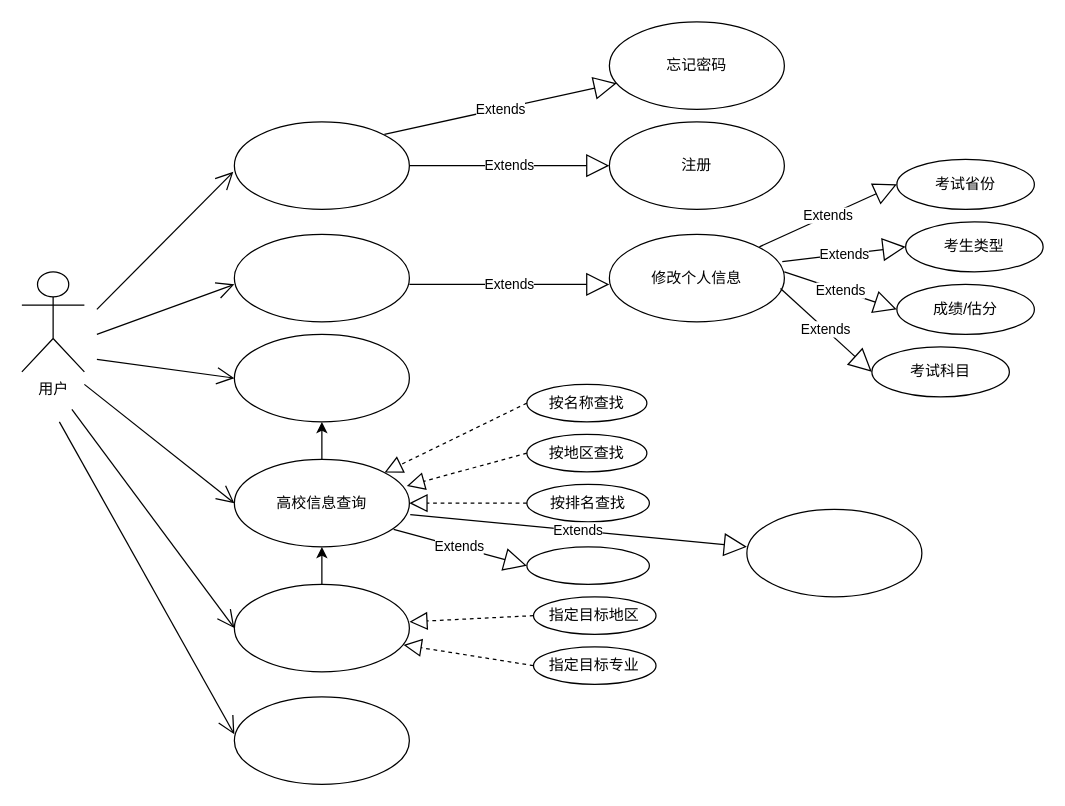
This 1065x806 diagram has some shape labels left out. Here are the shapes that lost their labels. From the top down, the centre of each, then its label:
At (321,165): "登录".
At (321,277): "录入个人信息".
At (321,377): "专业信息查询".
At (587,565): "查看往年信息".
At (834,552): "进入学校官方网站".
At (321,627): "查看院校推荐".
At (321,740): "高校往年分数线查询".
